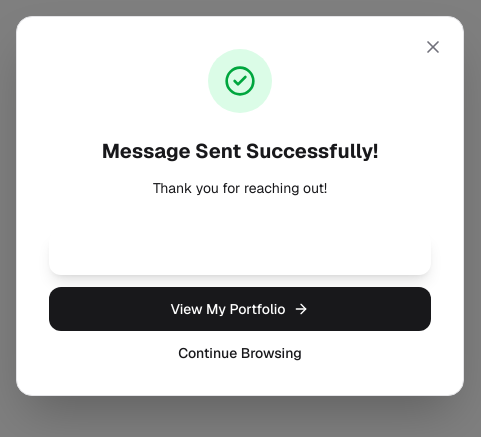
it: SuccessModal › booking submission › shows booking success after successful submission
Step 1. Click the button "Book a Free Consultation" → (240, 253), box [49,231,431,275]
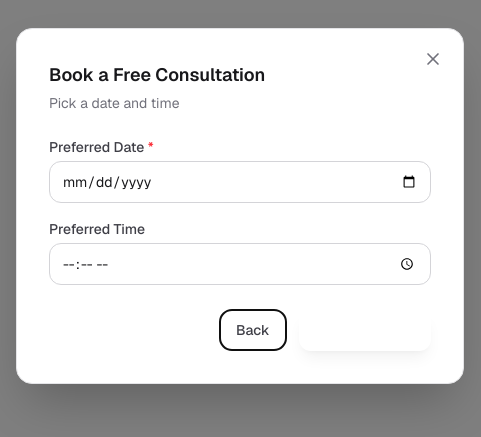
Step 2. Type "2026-07-20" into the date field → (240, 182), box [49,161,431,203]
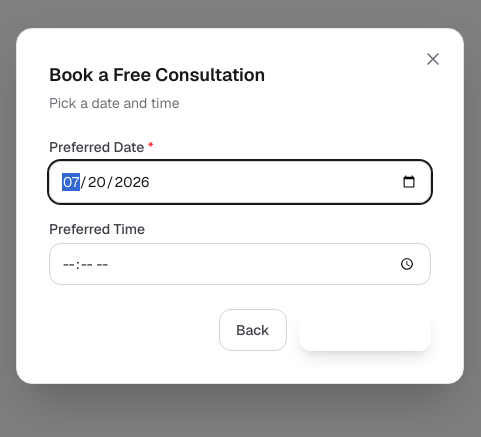
Step 3. Click the button "Book Now" → (365, 330), box [298,309,431,351]
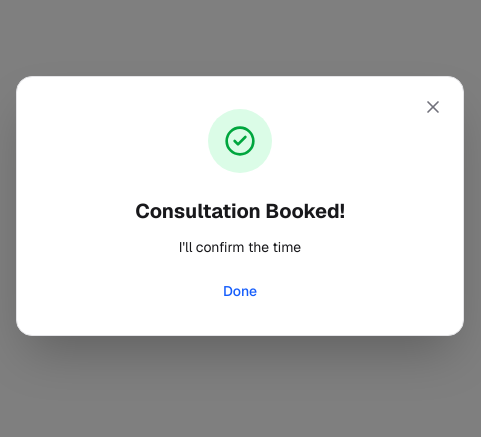
expect the heading "Consultation Booked!" is shown: met, box [135,198,345,224]
